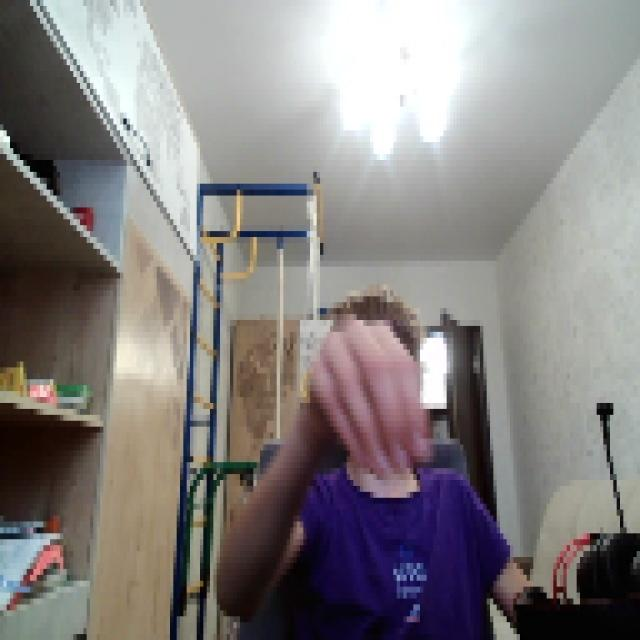left_click: (300, 308, 427, 468)
